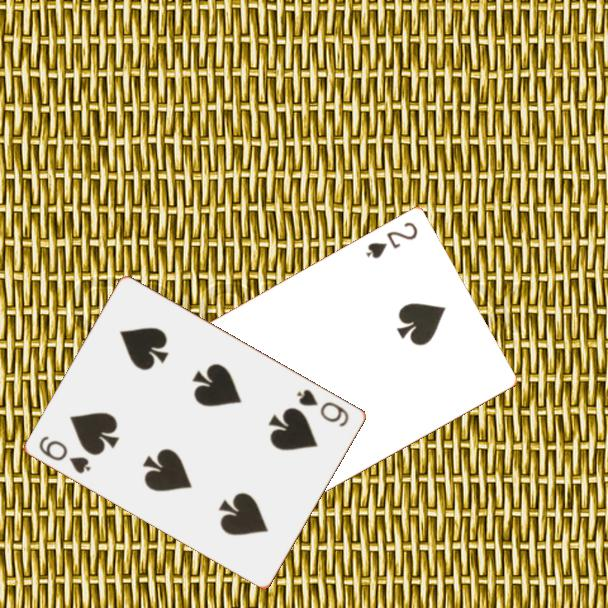s02: (362, 219, 421, 262)
s06: (293, 385, 352, 430), (36, 432, 94, 477)
